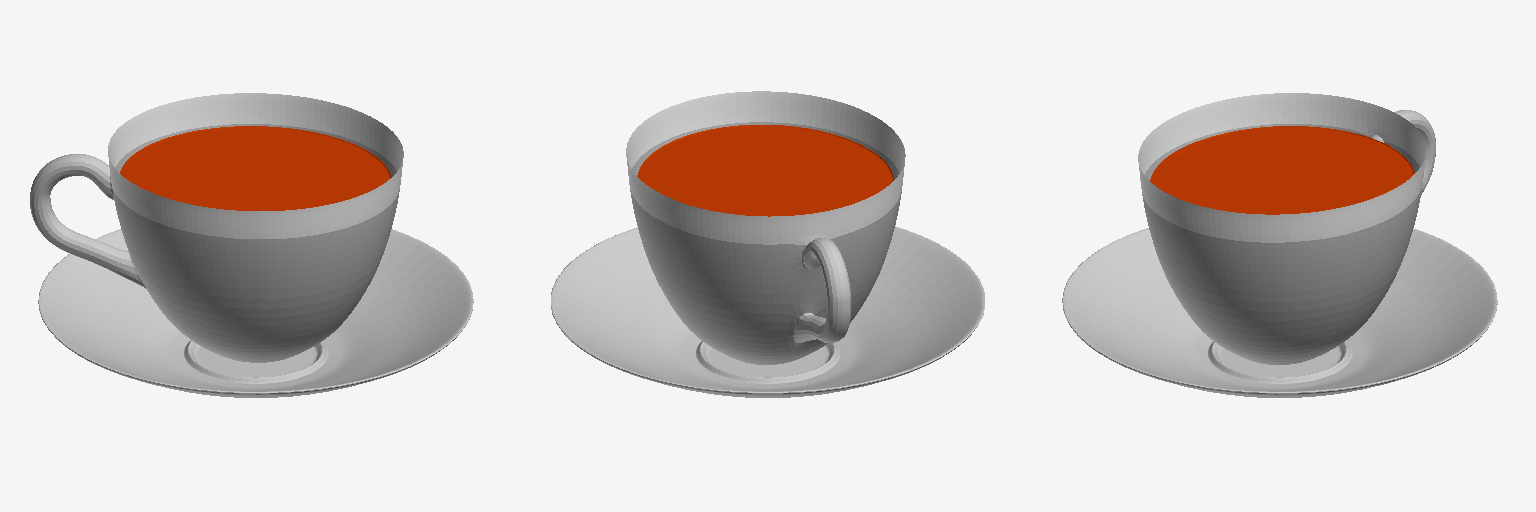
The model's file is CoffeeCup.obj.
3 views of the same model, side by side, from view 1: azimuth 30°, elevation 25°; view 2: azimuth 150°, elevation 25°; view 3: azimuth 270°, elevation 25° (orthographic).
Visible parts, largest first — view 1: CoffeeCup_Circle.003; view 2: CoffeeCup_Circle.003; view 3: CoffeeCup_Circle.003.
Part boxes in pixels (x1,y1,x2,y2): CoffeeCup_Circle.003: (30, 93, 473, 397); CoffeeCup_Circle.003: (551, 91, 984, 397); CoffeeCup_Circle.003: (1062, 93, 1497, 397).
Bounding box in the file's own units: 0.1548 × 0.0806 × 0.1548.